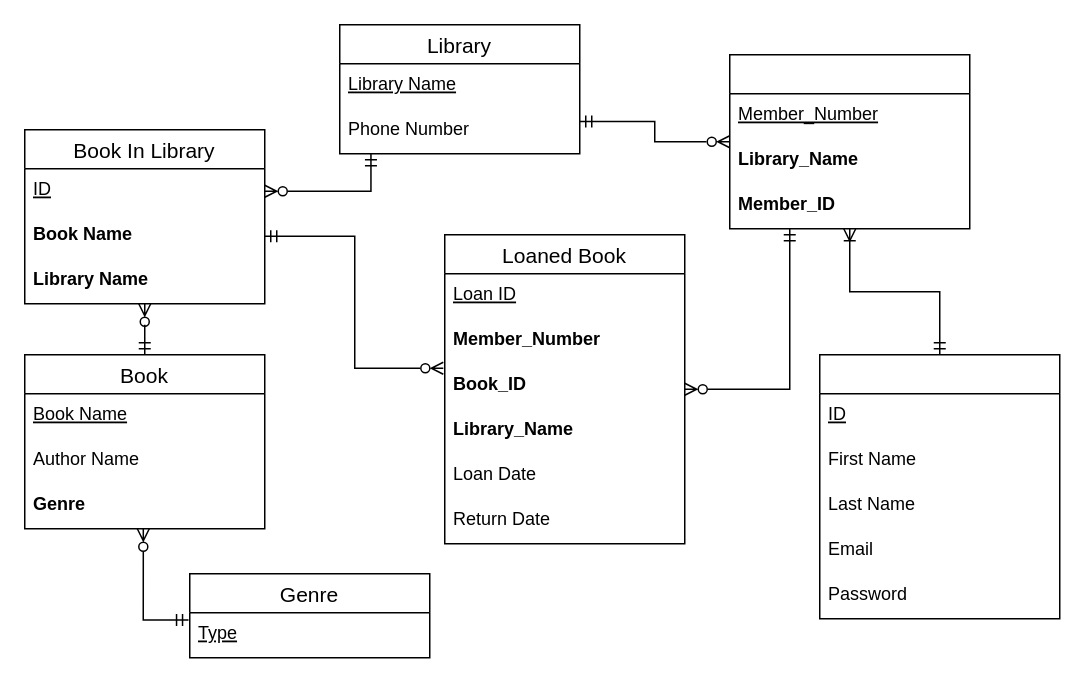
Image size: 1085x683. Some labels were removed from this diagram. The shapes that lost their labels are listed below. From the top down, each one's box as (x1, y1, x2, y2) in pixels, then its label:
(728, 53, 970, 229): Member In Library
(818, 353, 1060, 619): Member
